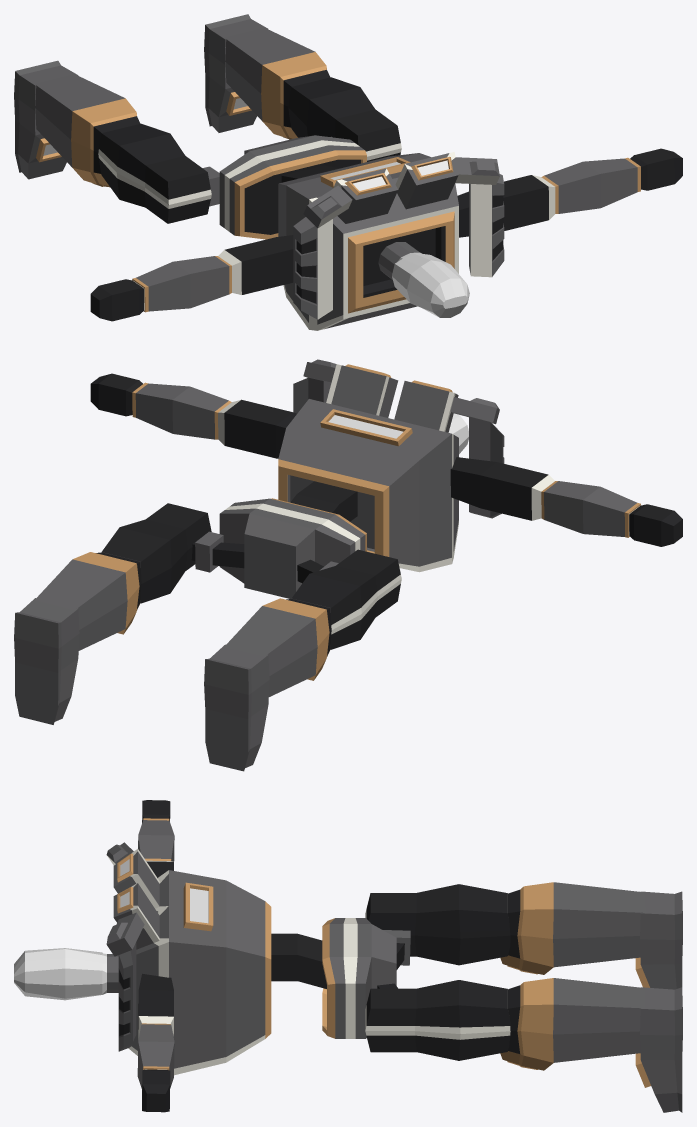
File: RobotLast.fbx
3 views of the same model, one above another, from view 1: azimuth 30°, elevation 25°; view 2: azimuth 150°, elevation 25°; view 3: azimuth 270°, elevation 25° (orthographic). The views are drawn at different scales.
Parts seen in each view (by area): view 1: Cube; view 2: Cube; view 3: Cube.
Boxes of the visible parts, x1=… form: Cube: x1=14, y1=14, x2=682, y2=330; Cube: x1=14, y1=359, x2=682, y2=771; Cube: x1=14, y1=800, x2=682, y2=1112.
Size of the model in its own units: 2267 by 641 by 2183.
